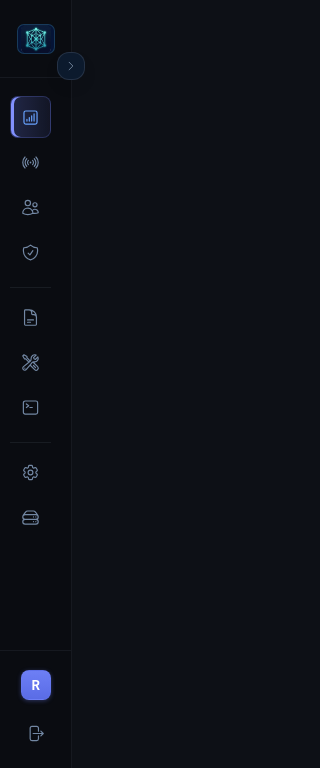
Scenario: Sidebar › expands again after being collapsed
Click the button named "展开侧边栏".
click(71, 66)  # box [57, 52, 85, 80]
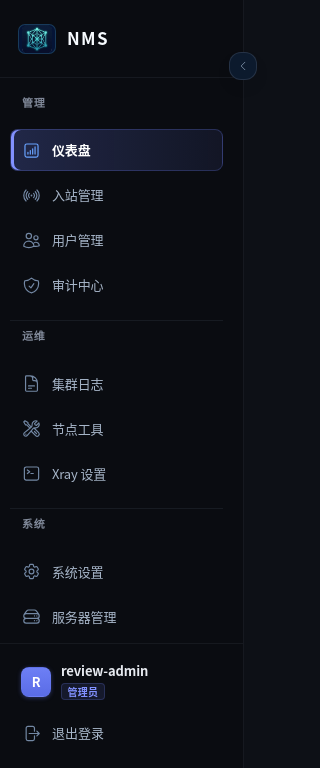
Now the button named "收起侧边栏" is shown, box [229, 52, 257, 80]
